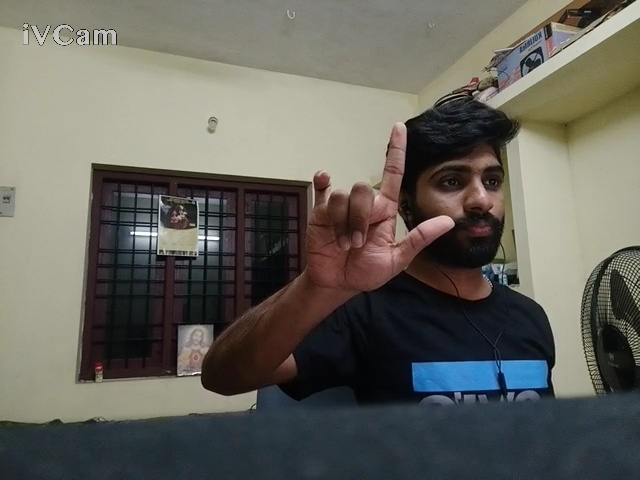I Love You: (276, 108, 470, 302)
